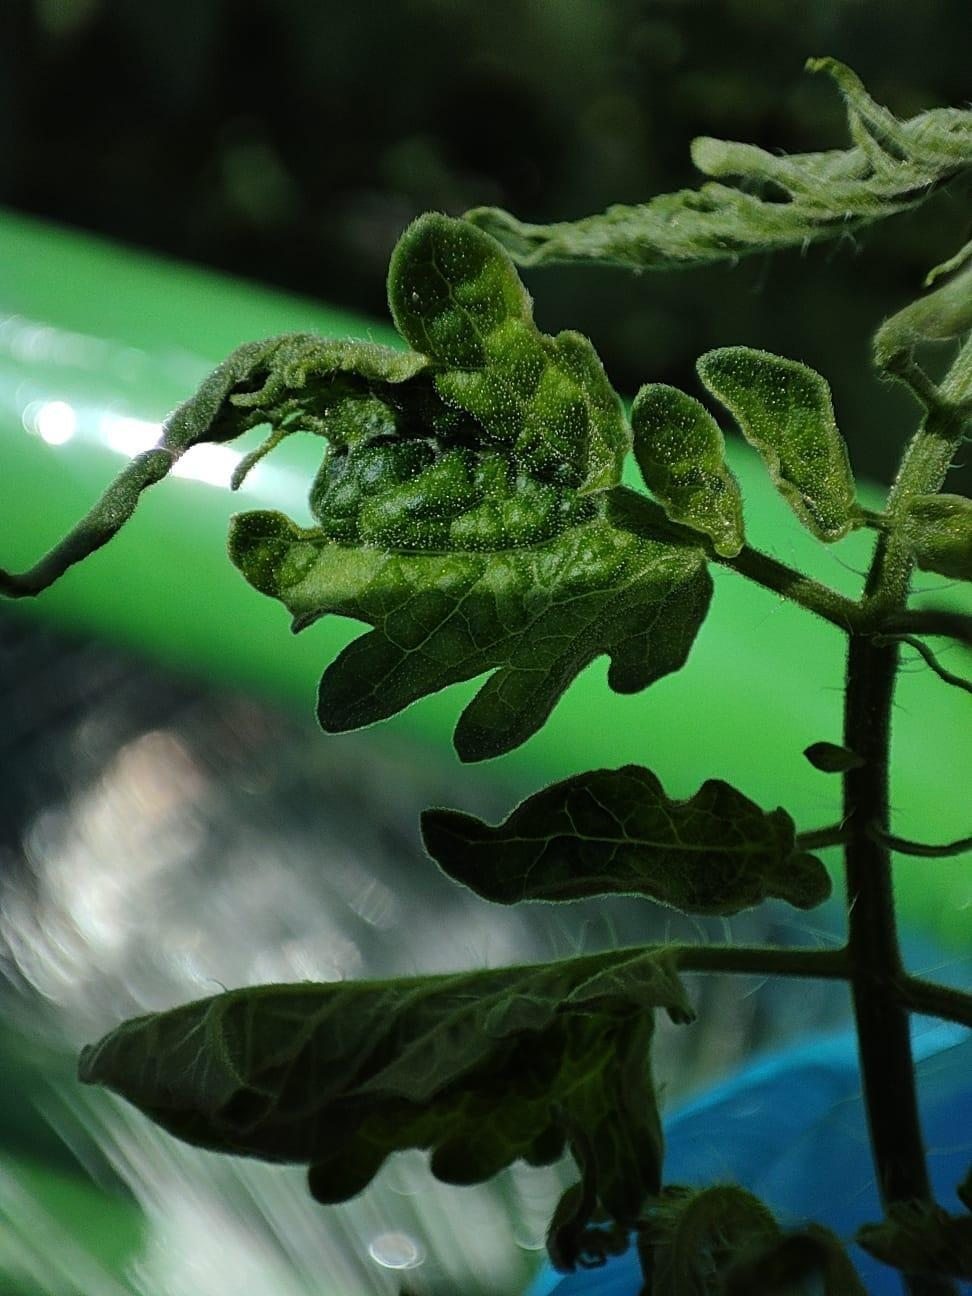Rugose leaf: (7, 215, 712, 759), (79, 945, 690, 1266), (422, 768, 829, 914), (699, 347, 866, 539)
